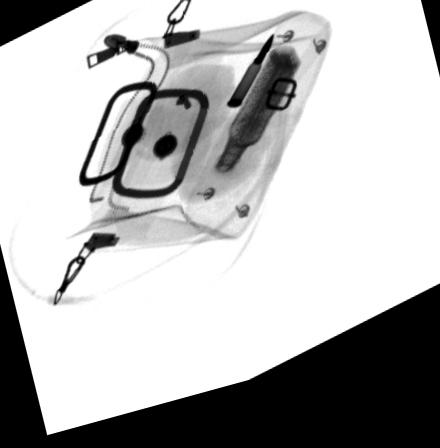Bullet: (224, 46, 274, 120)
